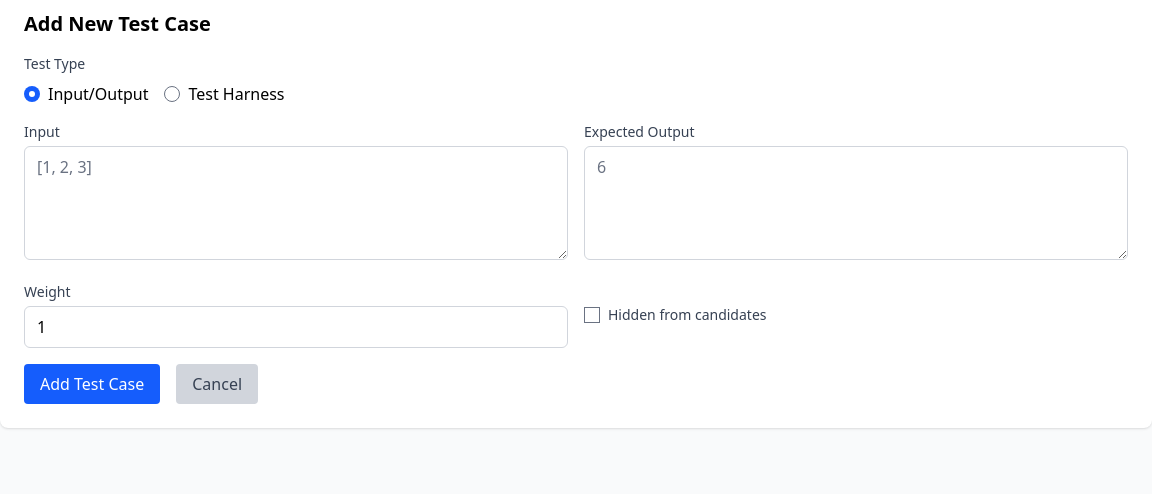
Test: TestCaseForm › test type switching › should show harness field when harness type is selected
Step 1. Click the radio button labelled "Test Harness" → (172, 94), box [164,86,180,102]
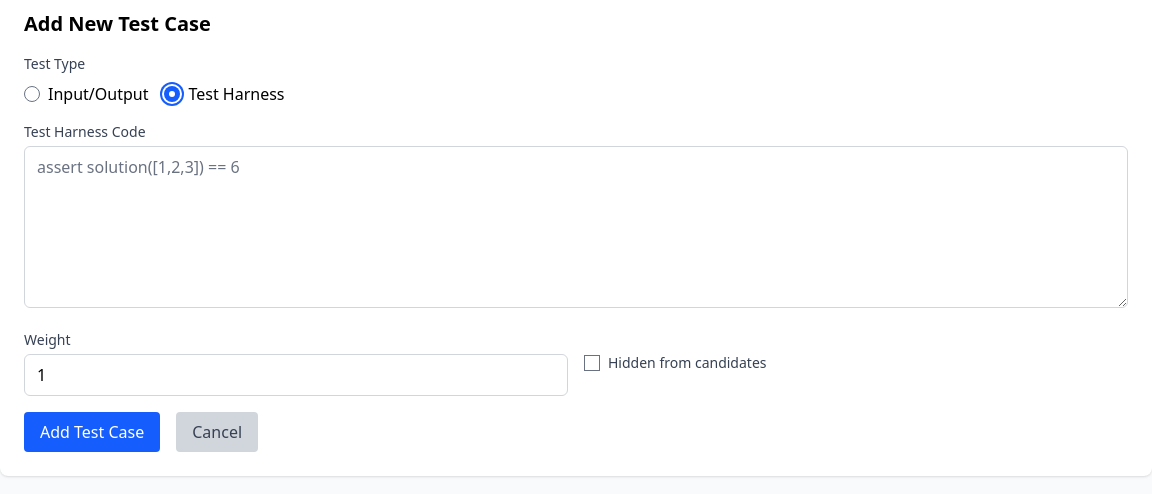
Now the text box labelled "Test Harness Code" is shown, box [24,146,1128,308]
